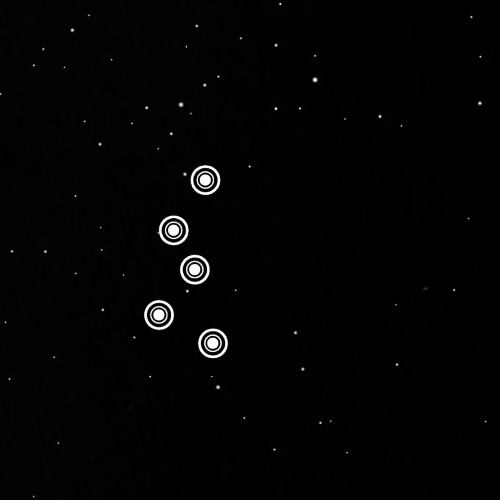cassiopeia: (133, 155, 234, 365)
